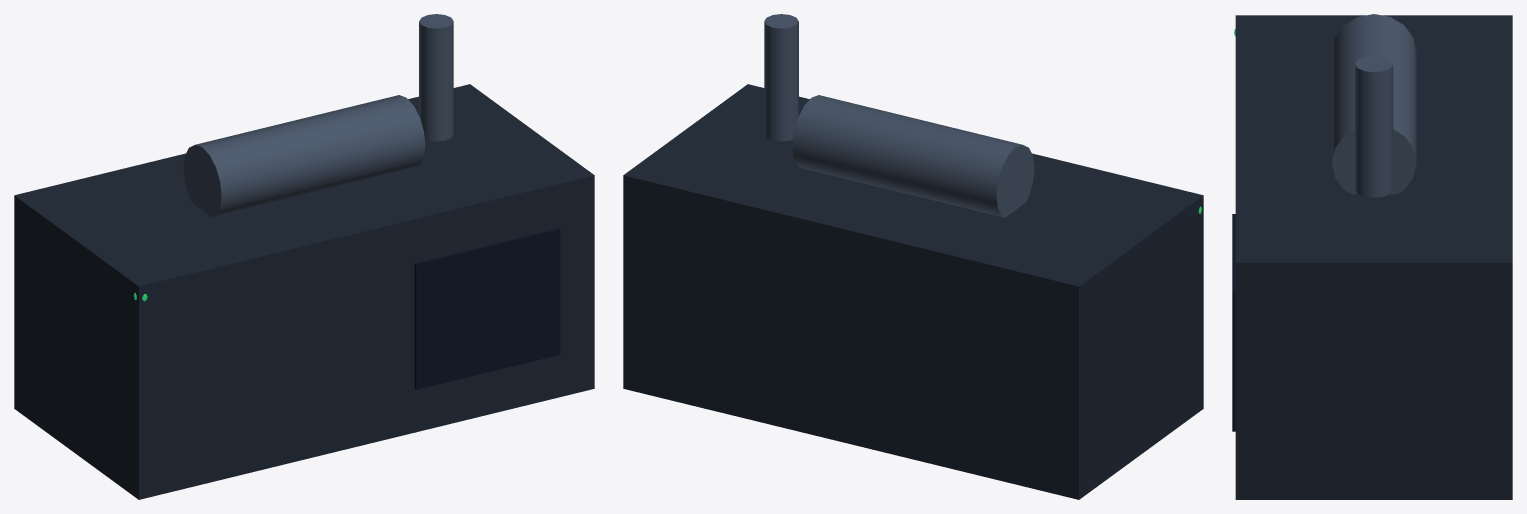
Rendered from generator.glb.
The picture shows the model from 3 angles, left to right: view 1: azimuth 30°, elevation 25°; view 2: azimuth 150°, elevation 25°; view 3: azimuth 270°, elevation 25°; orthographic projection. The views are drawn at different scales.
Parts seen in each view (by area): view 1: object 1, object 2, object 3, object 4; view 2: object 1, object 3, object 4; view 3: object 1, object 3, object 4, object 2.
Boxes of the visible parts, x1,y1,x2,y2 form: object 1: (14,84,594,499); object 2: (414,228,560,389); object 3: (183,95,425,217); object 4: (419,14,453,141); object 1: (623,84,1203,499); object 3: (792,95,1034,217); object 4: (764,14,798,141); object 1: (1235,15,1512,499); object 3: (1332,14,1416,194); object 4: (1355,56,1393,197); object 2: (1232,214,1235,431).
Size of the model in its own units: 7.62 by 5.5 by 3.64.
